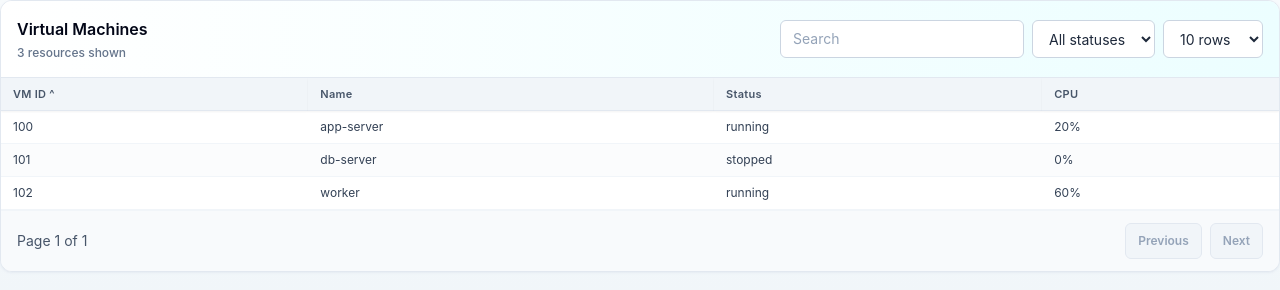
filters rows by search and status
Type "db" into the field with placeholder "Search" at coordinates (902, 39), box 780,20 -> 1024,58
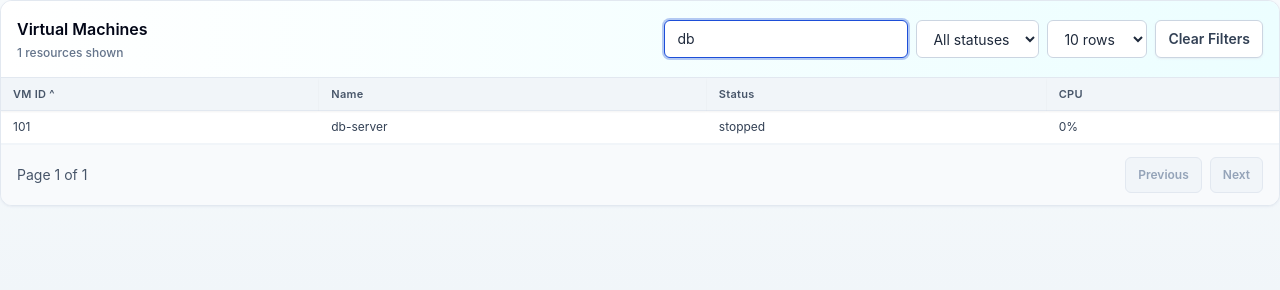
Check: the text "db-server" is shown, box 319,111 -> 707,144
Check: the text "app-server" is gone
Clear the field with placeholder "Search" at coordinates (786, 39), box 664,20 -> 908,58
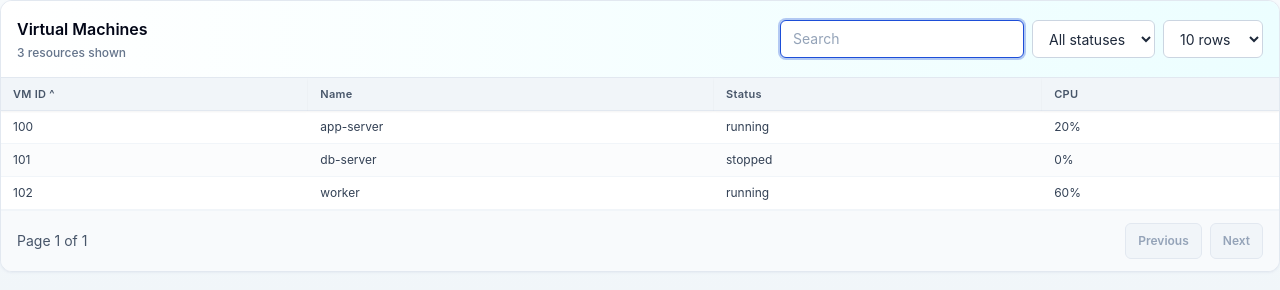
Select "stopped" in the 1st dropdown showing "all statuses" at coordinates (1094, 39), box 1032,20 -> 1155,58
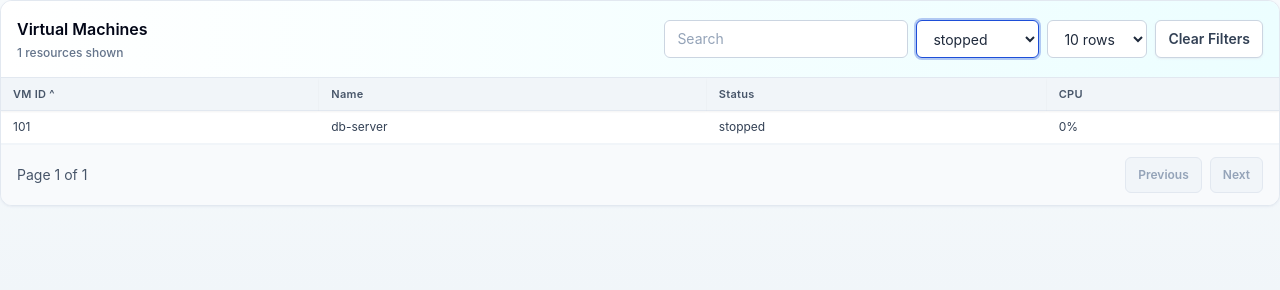
Check: the text "db-server" is shown, box 319,111 -> 707,144
Check: the text "worker" is gone
